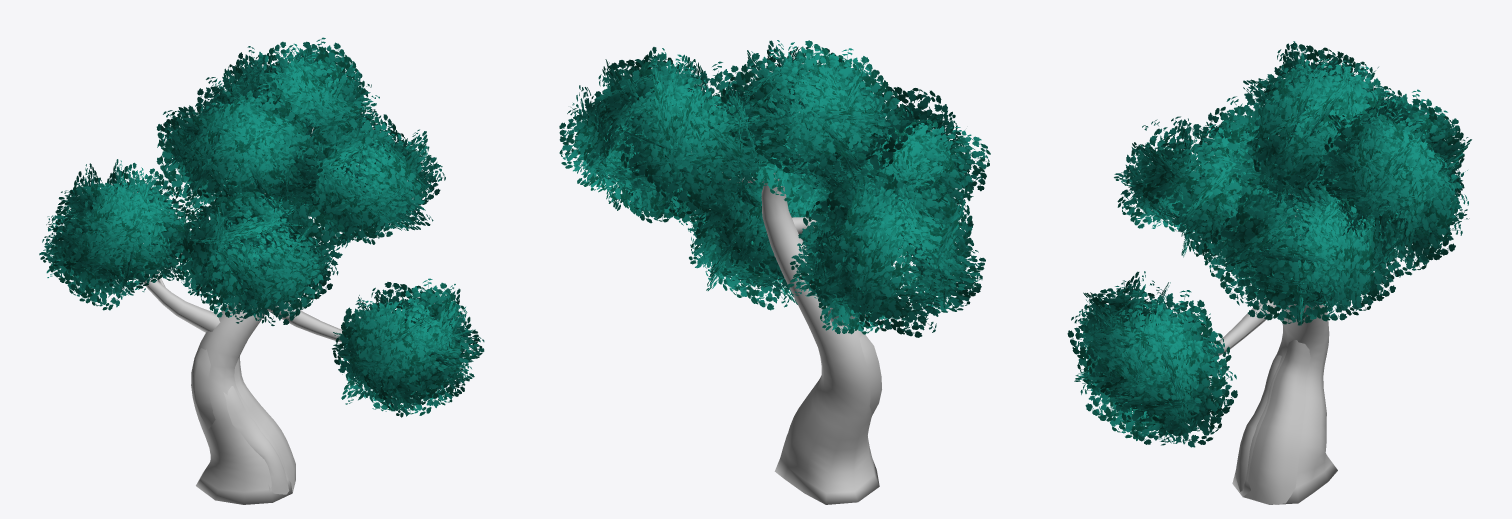
Rendered from Tree_S_02.fbx.
3 renders of one model, left to right at view 1: azimuth 30°, elevation 25°; view 2: azimuth 150°, elevation 25°; view 3: azimuth 270°, elevation 25°, orthographic. The views are drawn at different scales.
Parts seen in each view (by area): view 1: Tree_S2_Leaves2, Tree_S2_Leaves5, Tree_S_02, Tree_S2_Leaves4, Tree_S2_Leaves1, Tree_S2_Leaves3, Tree_S2_Leaves6; view 2: Tree_S2_Leaves6, Tree_S2_Leaves4, Tree_S2_Leaves5, Tree_S_02, Tree_S2_Leaves2, Tree_S2_Leaves1, Tree_S2_Leaves3; view 3: Tree_S2_Leaves1, Tree_S2_Leaves3, Tree_S2_Leaves6, Tree_S2_Leaves5, Tree_S_02, Tree_S2_Leaves2, Tree_S2_Leaves4.
Boxes of the visible parts, x1=… form: Tree_S2_Leaves2: x1=168, y1=189, x2=349, y2=325; Tree_S2_Leaves5: x1=156, y1=70, x2=322, y2=213; Tree_S_02: x1=143, y1=127, x2=342, y2=504; Tree_S2_Leaves4: x1=39, y1=159, x2=198, y2=310; Tree_S2_Leaves1: x1=332, y1=278, x2=484, y2=417; Tree_S2_Leaves3: x1=291, y1=113, x2=445, y2=245; Tree_S2_Leaves6: x1=196, y1=37, x2=380, y2=160; Tree_S2_Leaves6: x1=559, y1=47, x2=783, y2=216; Tree_S2_Leaves4: x1=787, y1=168, x2=985, y2=337; Tree_S2_Leaves5: x1=712, y1=40, x2=913, y2=202; Tree_S_02: x1=691, y1=151, x2=881, y2=504; Tree_S2_Leaves2: x1=798, y1=85, x2=990, y2=219; Tree_S2_Leaves1: x1=679, y1=179, x2=839, y2=310; Tree_S2_Leaves3: x1=571, y1=65, x2=750, y2=223; Tree_S2_Leaves1: x1=1067, y1=271, x2=1237, y2=447; Tree_S2_Leaves3: x1=1204, y1=174, x2=1405, y2=325; Tree_S2_Leaves6: x1=1319, y1=95, x2=1471, y2=275; Tree_S2_Leaves5: x1=1220, y1=41, x2=1389, y2=215; Tree_S_02: x1=1212, y1=194, x2=1337, y2=504; Tree_S2_Leaves2: x1=1114, y1=106, x2=1275, y2=261; Tree_S2_Leaves4: x1=1367, y1=86, x2=1464, y2=240.
Size of the model in its own units: 799 by 755 by 672.
